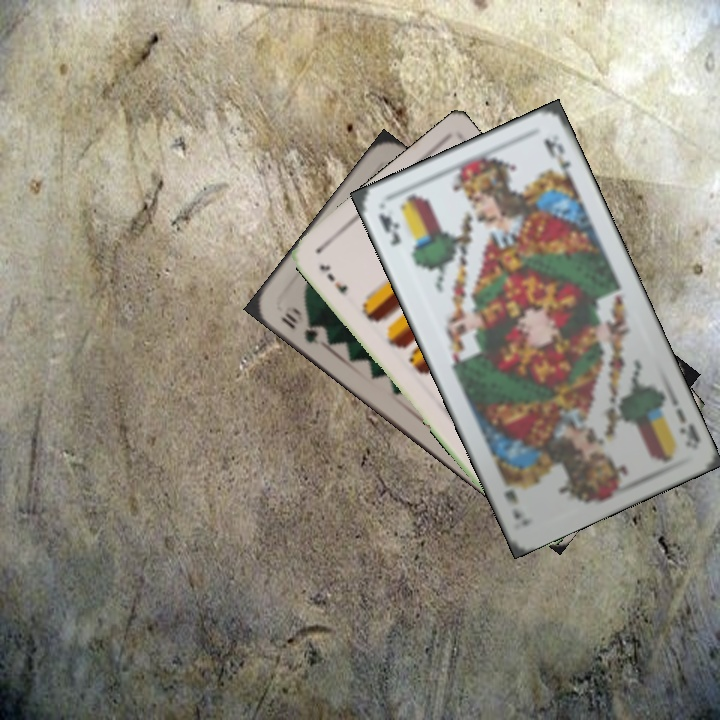E7: (314, 260, 351, 297)
EK: (672, 405, 703, 451), (375, 210, 403, 248)
G10: (276, 304, 322, 348)
